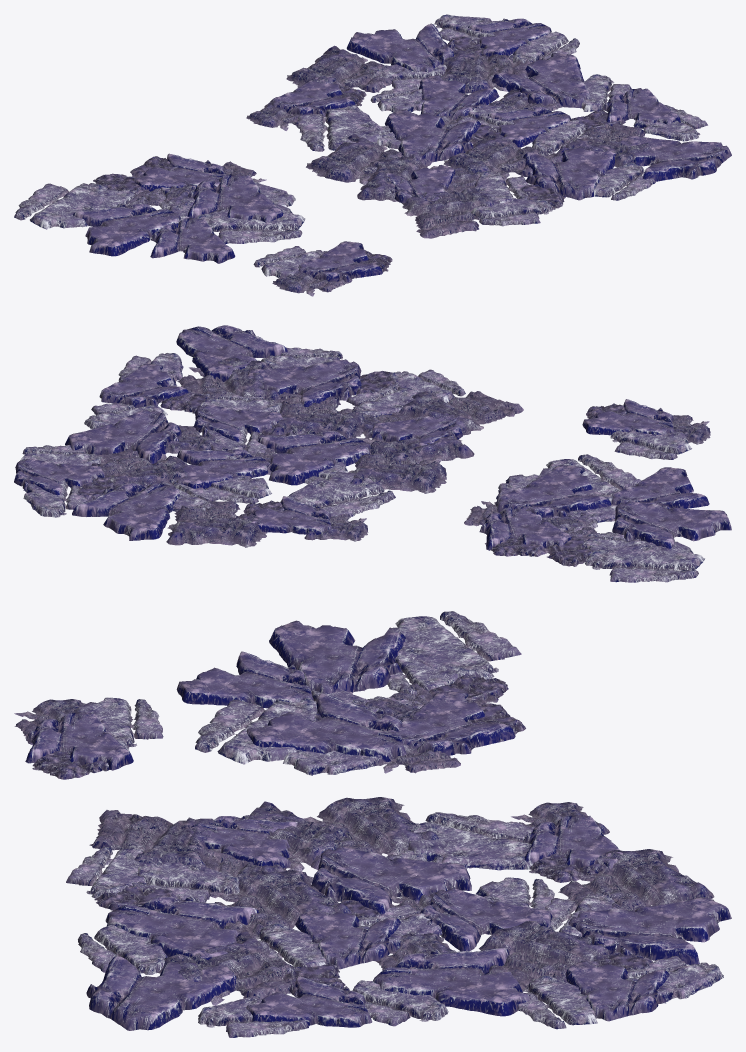
The model's file is SM_Crystaltile.FBX.
The picture shows the model from 3 angles, top to bottom: view 1: azimuth 30°, elevation 25°; view 2: azimuth 150°, elevation 25°; view 3: azimuth 270°, elevation 25°; orthographic projection. The views are drawn at different scales.
Visible parts, largest first — view 1: SM_Crystaltile_50m, SM_Crystaltile_30m, SM_Crystaltile_10m; view 2: SM_Crystaltile_50m, SM_Crystaltile_30m, SM_Crystaltile_10m; view 3: SM_Crystaltile_50m, SM_Crystaltile_30m, SM_Crystaltile_10m.
Part boxes in pixels (left/top/right/bottom): SM_Crystaltile_50m: left=246, top=14, right=731, bottom=238; SM_Crystaltile_30m: left=14, top=153, right=305, bottom=263; SM_Crystaltile_10m: left=253, top=241, right=392, bottom=296; SM_Crystaltile_50m: left=14, top=325, right=523, bottom=547; SM_Crystaltile_30m: left=464, top=454, right=731, bottom=582; SM_Crystaltile_10m: left=582, top=399, right=710, bottom=459; SM_Crystaltile_50m: left=66, top=797, right=731, bottom=1037; SM_Crystaltile_30m: left=176, top=611, right=525, bottom=775; SM_Crystaltile_10m: left=14, top=697, right=163, bottom=779.
Size of the model in its own units: 3265 by 53.55 by 2340.
